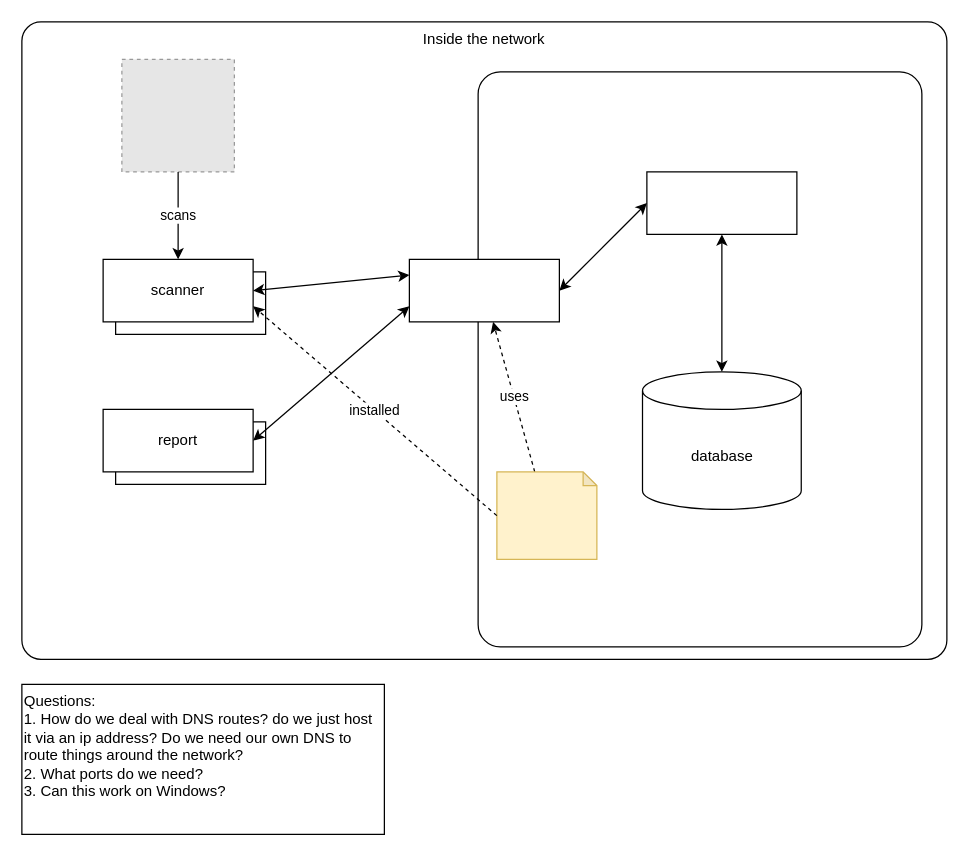
The diagram is 969 pixels wide and 856 high, and some of its shapes have lost their labels. Grey dashed boxes stand in for pictures. Each missing label, with the box of its shape:
Dedicated machine: (477, 71, 922, 647)
nginx: (408, 258, 559, 322)
people-service: (646, 171, 797, 234)
ssl.cert: (496, 471, 597, 559)
